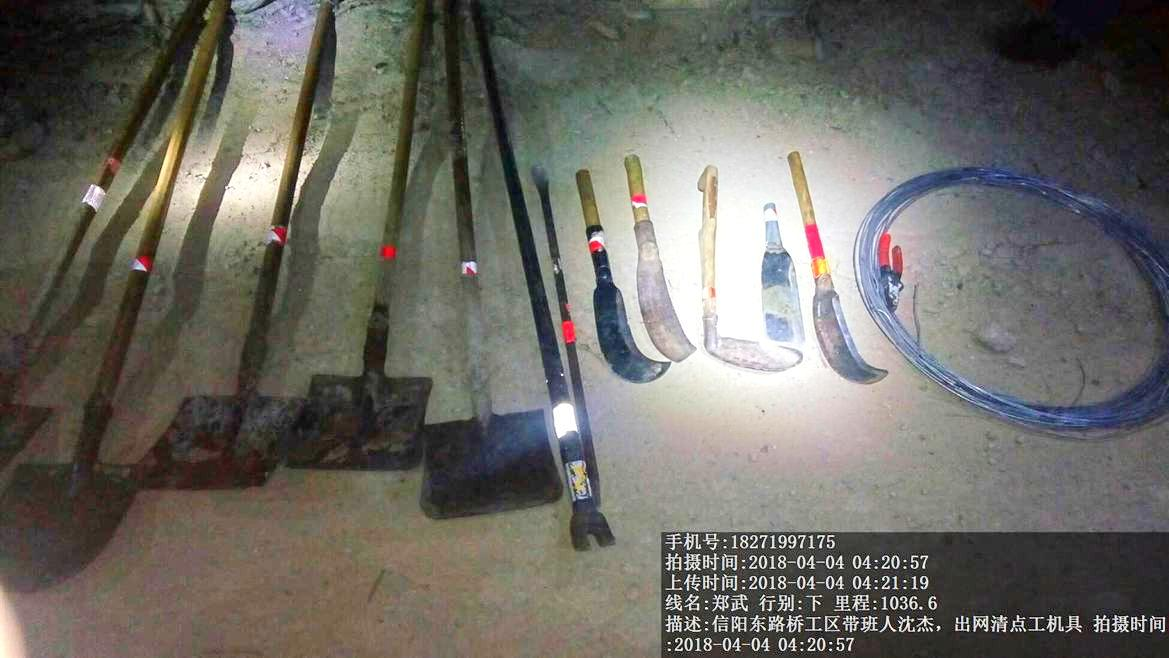TQ: (147, 125, 296, 491), (307, 16, 425, 466)
